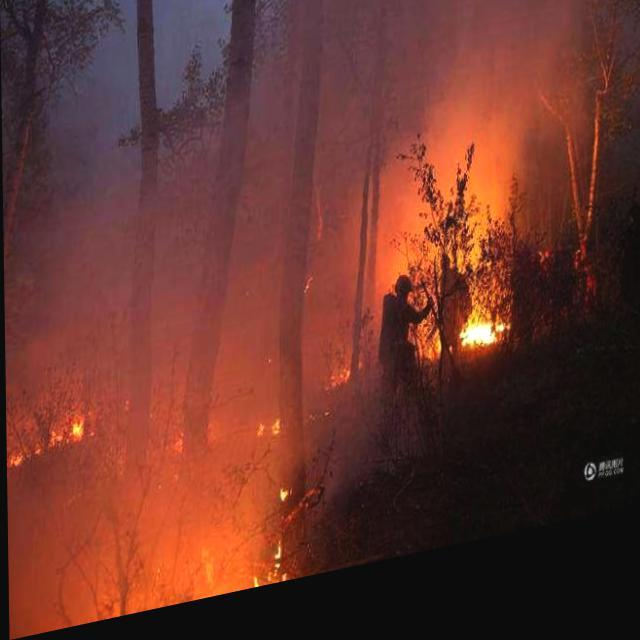Fire: (250, 400, 306, 597), (6, 393, 87, 469), (453, 328, 508, 377), (327, 369, 354, 409)
